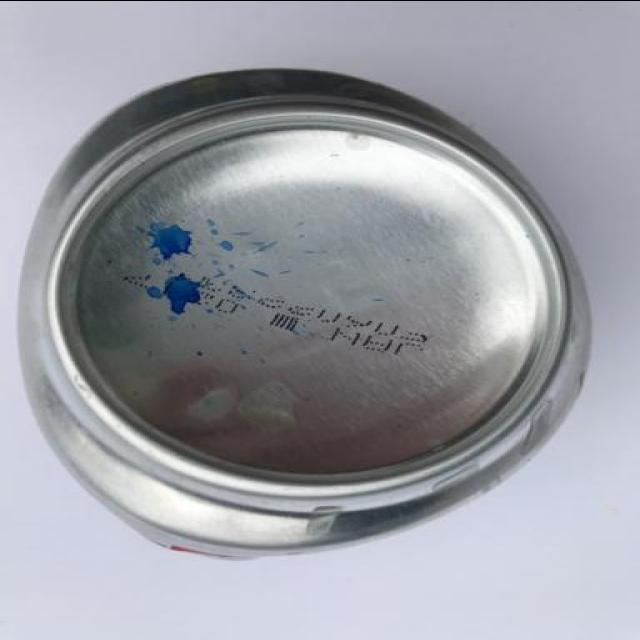litter: (23, 31, 600, 578)
